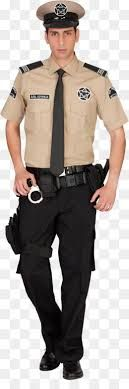uniform: (16, 56, 115, 363)
